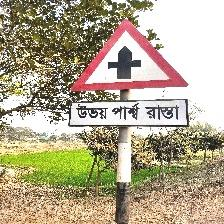Crossroad: (61, 10, 194, 137)
